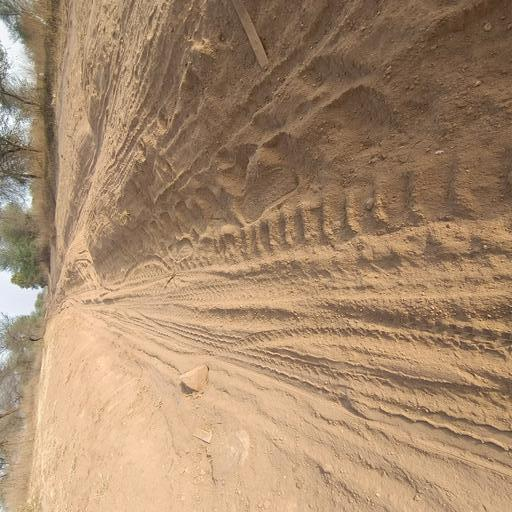vehicle_track: (71, 135, 512, 495)
